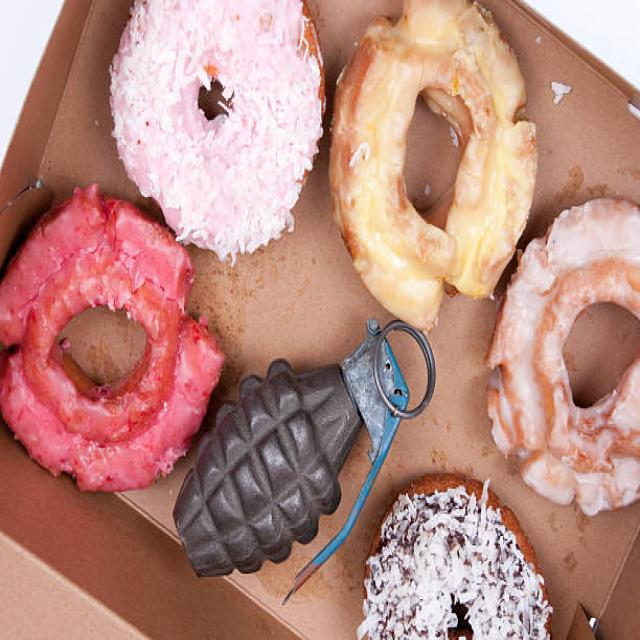grenade: (167, 311, 443, 612)
